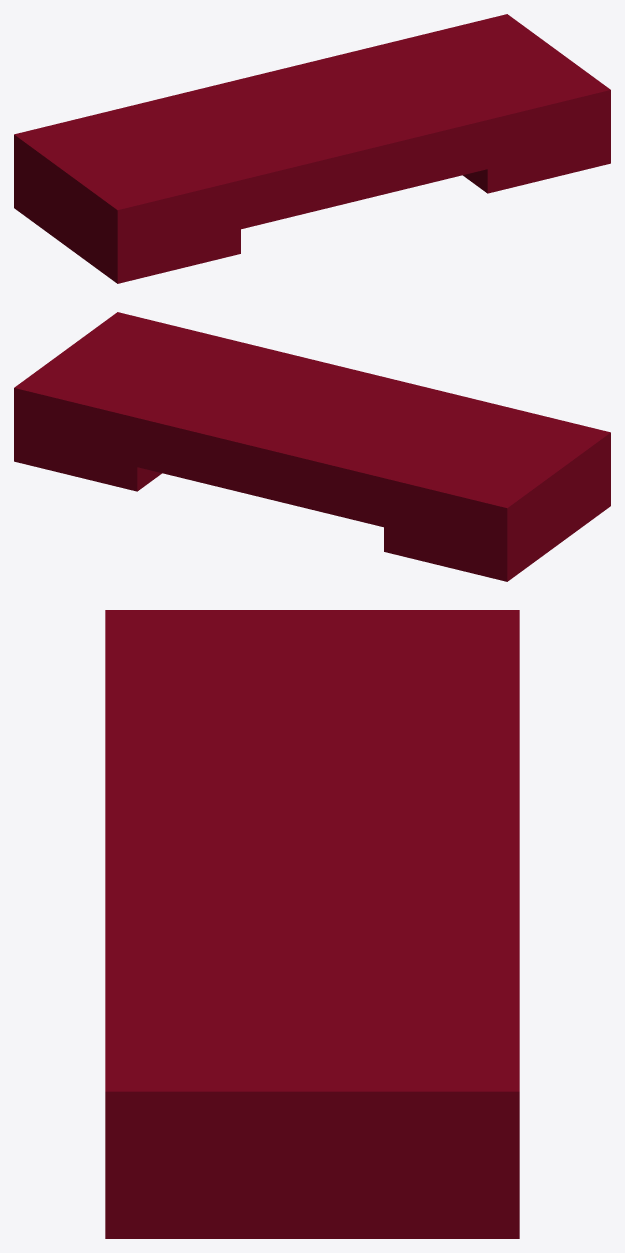
Rendered from phone.fbx.
3 renders of one model, top to bottom at view 1: azimuth 30°, elevation 25°; view 2: azimuth 150°, elevation 25°; view 3: azimuth 270°, elevation 25°, orthographic. The views are drawn at different scales.
Parts seen in each view (by area): view 1: phone; view 2: phone; view 3: phone.
Part boxes in pixels (x1,y1,x2,y2): phone: (14,14,610,283); phone: (14,312,610,581); phone: (105,610,519,1238).
Bounding box in the file's own units: 0.1686 × 0.0241 × 0.0613.
